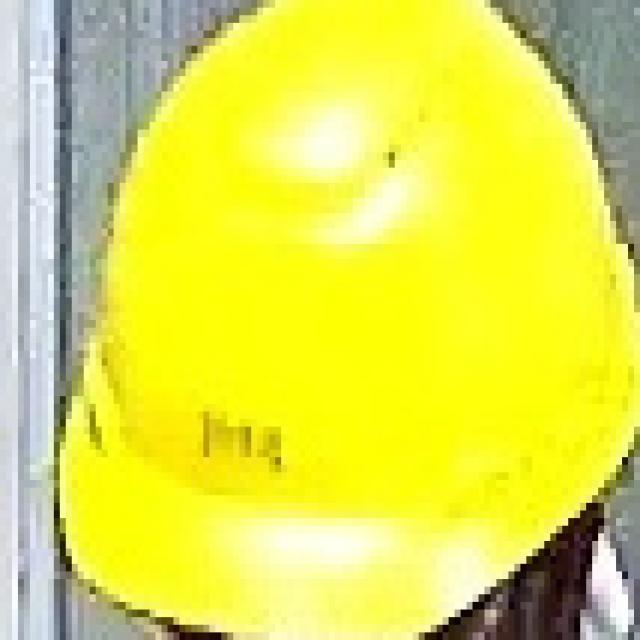yellow helmet: (52, 1, 640, 640)
